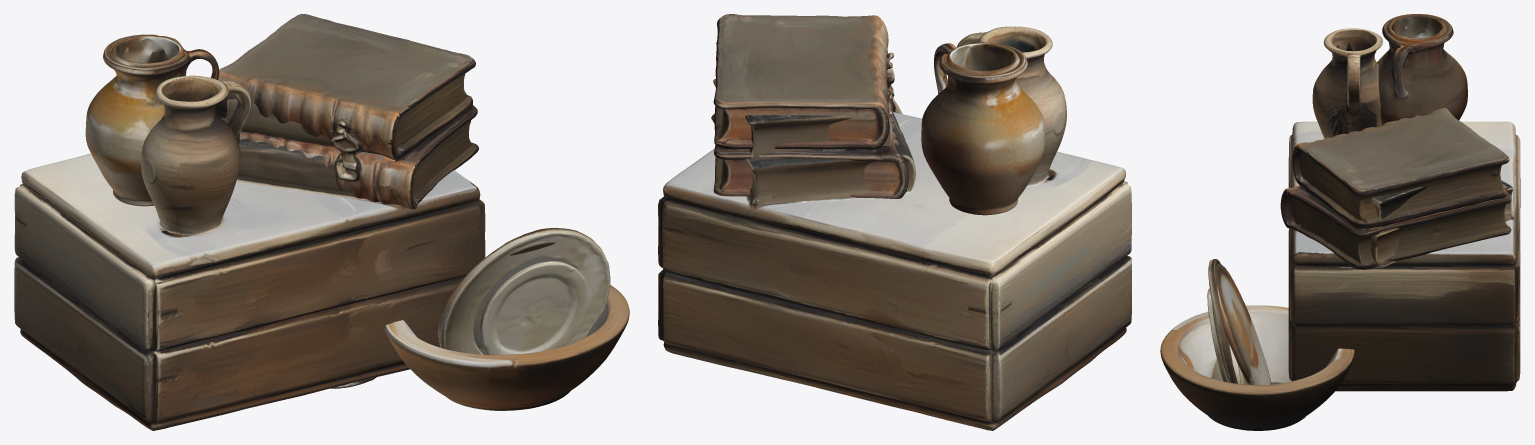
Rendered from midi_textured.glb.
3 views of the same model, side by side, from view 1: azimuth 30°, elevation 25°; view 2: azimuth 150°, elevation 25°; view 3: azimuth 270°, elevation 25° (orthographic). The views are drawn at different scales.
Visible parts, largest first — view 1: geometry_0d175f1bc58c5, geometry_0, geometry_016f12266b330, geometry_013b44362c861, geometry_0626f43ce042e; view 2: geometry_0d175f1bc58c5, geometry_0, geometry_0626f43ce042e; view 3: geometry_0d175f1bc58c5, geometry_0, geometry_013b44362c861, geometry_0626f43ce042e, geometry_016f12266b330.
Part boxes in pixels (left/top/right/bottom): geometry_0d175f1bc58c5: left=14, top=75, right=485, bottom=430; geometry_0: left=216, top=14, right=478, bottom=209; geometry_016f12266b330: left=440, top=228, right=610, bottom=354; geometry_013b44362c861: left=384, top=241, right=629, bottom=410; geometry_0626f43ce042e: left=85, top=34, right=219, bottom=206; geometry_0d175f1bc58c5: left=658, top=26, right=1131, bottom=430; geometry_0: left=713, top=14, right=908, bottom=198; geometry_0626f43ce042e: left=921, top=42, right=1045, bottom=215; geometry_0d175f1bc58c5: left=1288, top=28, right=1520, bottom=391; geometry_0: left=1280, top=108, right=1511, bottom=269; geometry_013b44362c861: left=1160, top=263, right=1354, bottom=430; geometry_0626f43ce042e: left=1377, top=14, right=1467, bottom=125; geometry_016f12266b330: left=1207, top=259, right=1247, bottom=384.
Bounding box in the file's own units: 1.91 × 1.35 × 1.59.
Materials: 6 (6 with a texture image).
